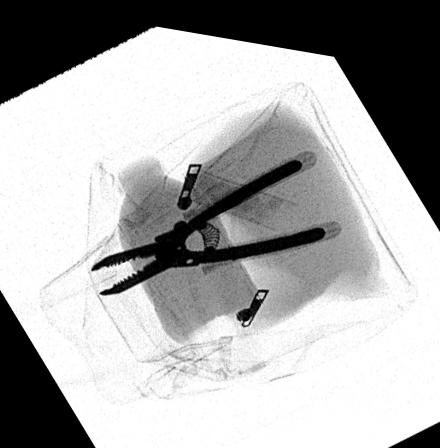Pliers: (86, 147, 324, 289)
